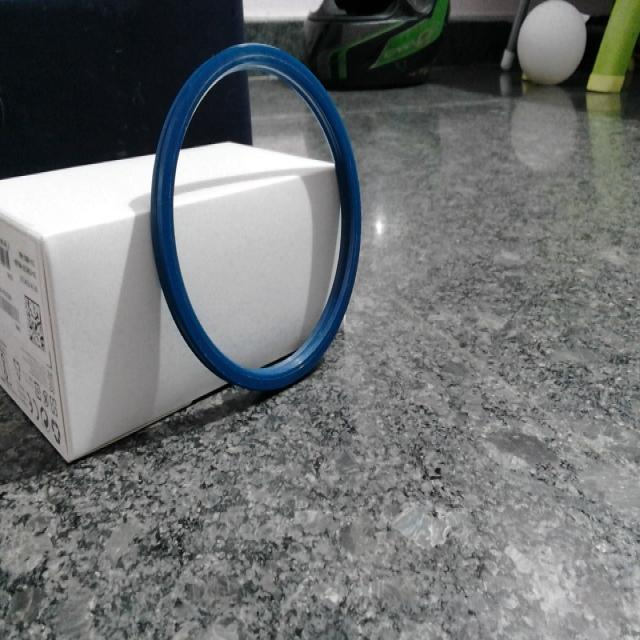purple-ring: (106, 0, 143, 19)
purssian-blue-ring: (151, 43, 360, 390)
